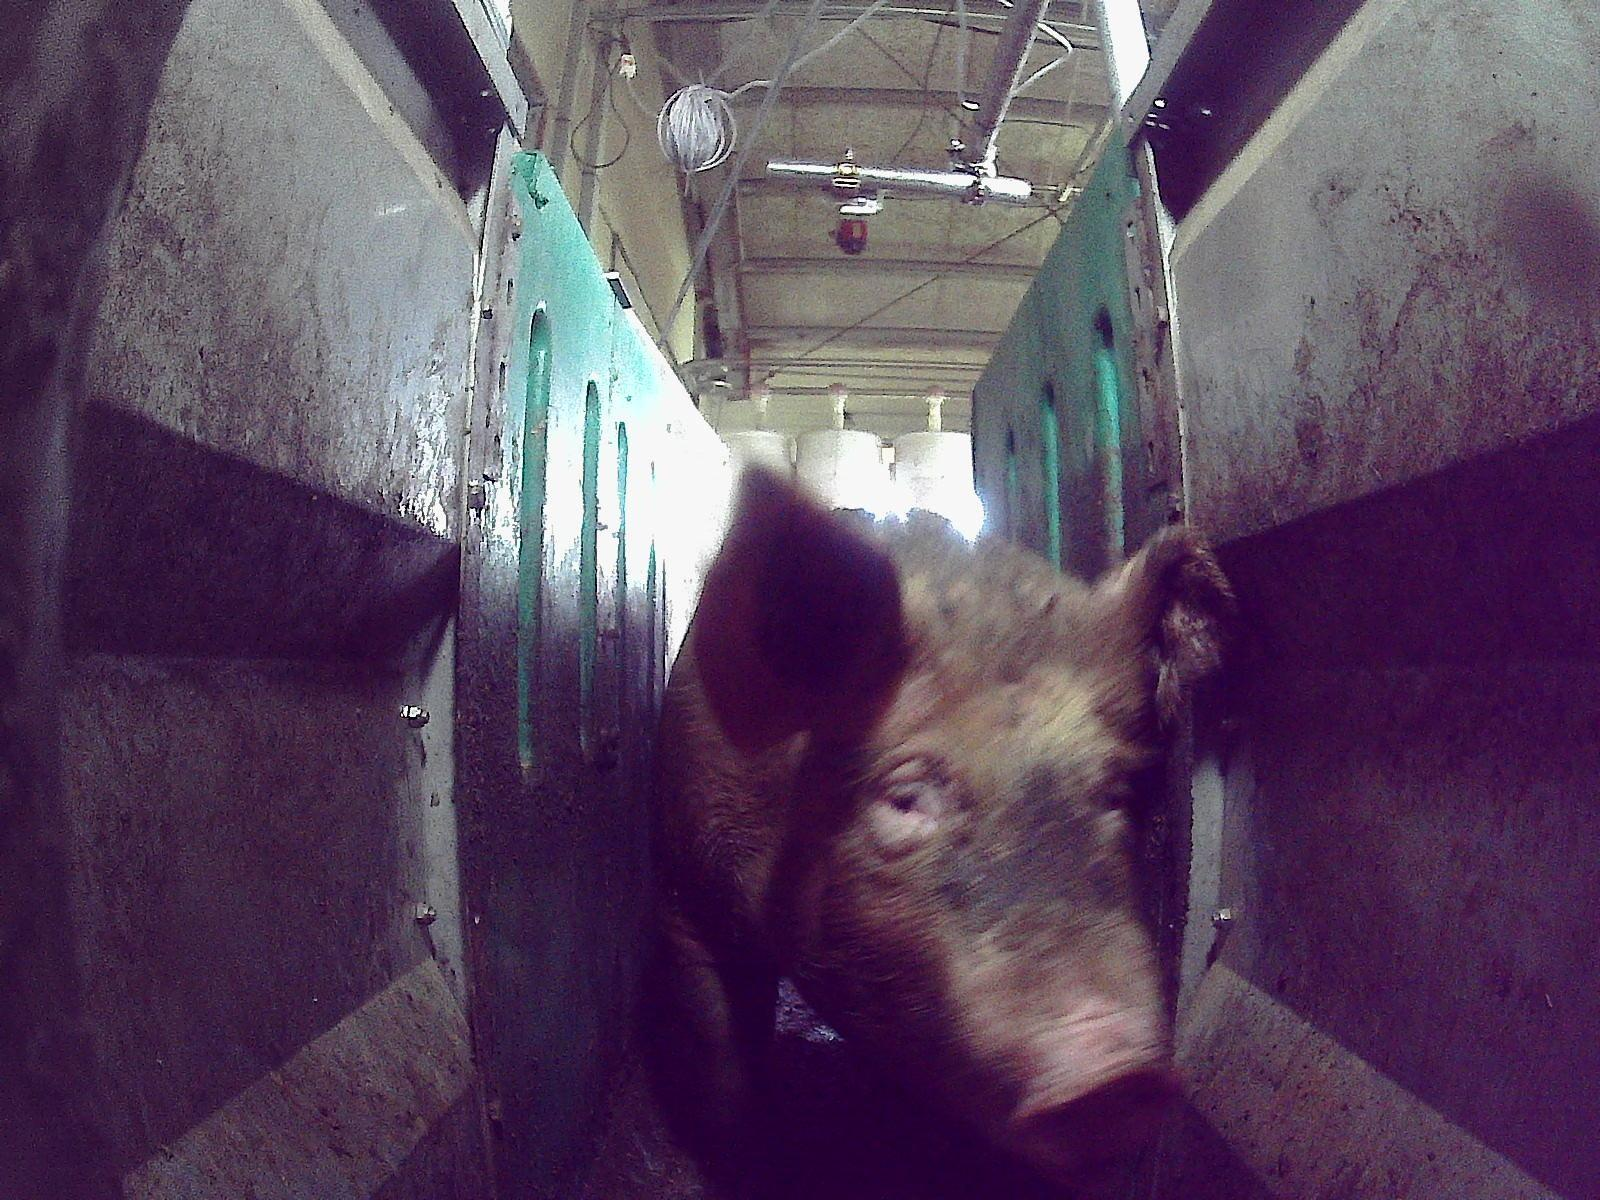Face: (809, 604, 1184, 1162)
